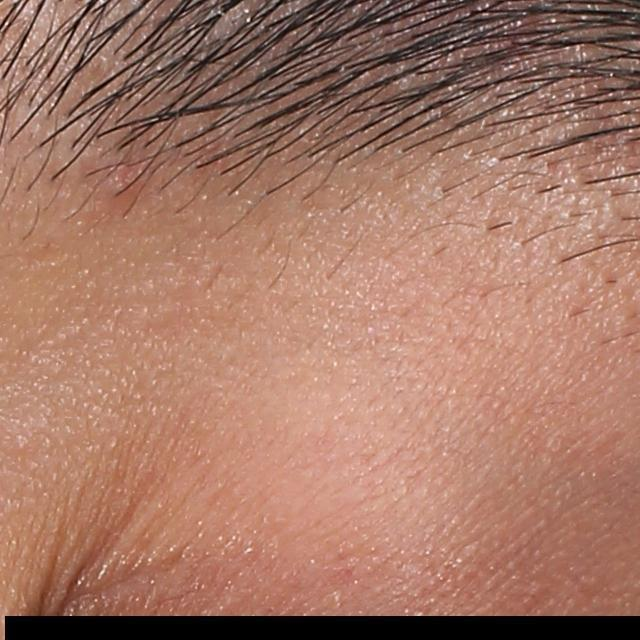papule: (102, 155, 150, 213)
